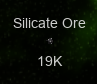Silicate: (13, 17, 86, 67)
